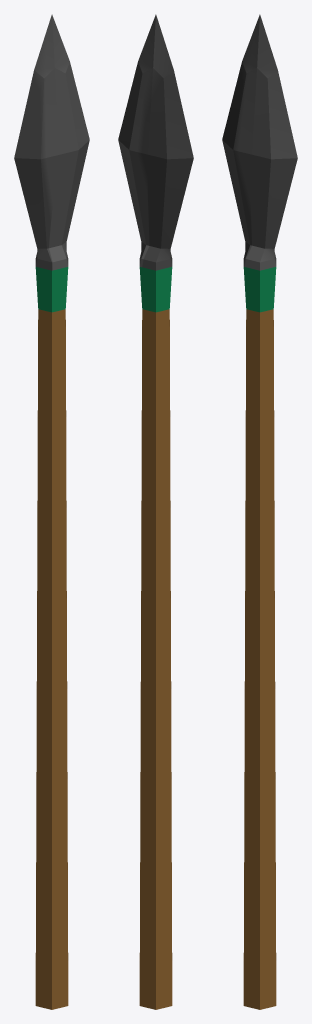
File: spear_legion.glb
3 renders of one model, left to right at view 1: azimuth 30°, elevation 25°; view 2: azimuth 150°, elevation 25°; view 3: azimuth 330°, elevation 25°, orthographic.
Visible parts, largest first — view 1: Spear; view 2: Spear; view 3: Spear.
Boxes of the visible parts, bbox=[...] form: Spear: bbox=[14, 14, 89, 1009]; Spear: bbox=[118, 14, 193, 1009]; Spear: bbox=[222, 14, 297, 1009].
Bounding box in the file's own units: 0.1365 × 1.7 × 0.051.
1 material, 1 textured.
